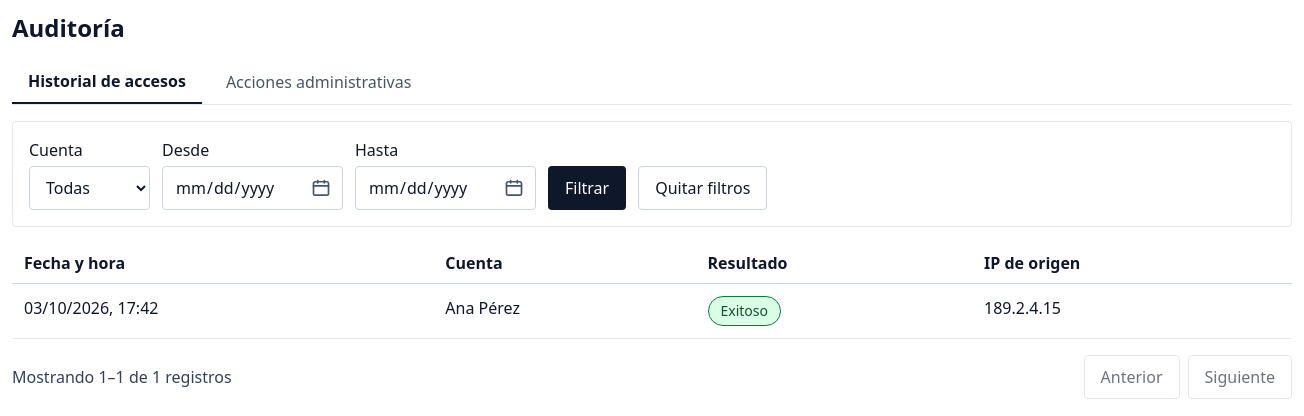
Test: AuditPage · filtros y paginación › cada pestaña conserva sus filtros al alternar
The image size is (1304, 416).
Expected: the table is shown, [12,243,1292,339]
Select "Ana Pérez" in the dropdown labelled "Cuenta" at (90, 188), box [29,166,150,210]
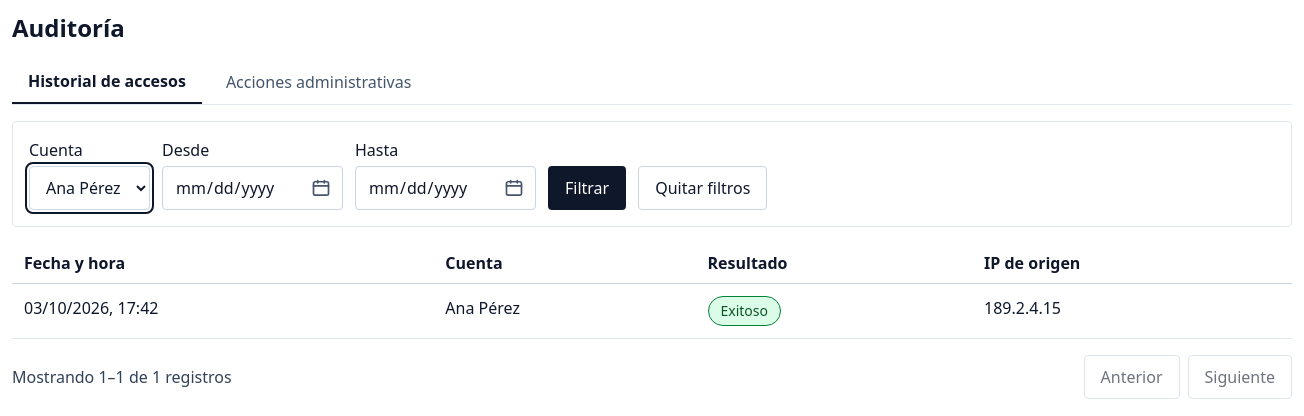
Click the button "Filtrar" at (587, 188), box [548,166,626,210]
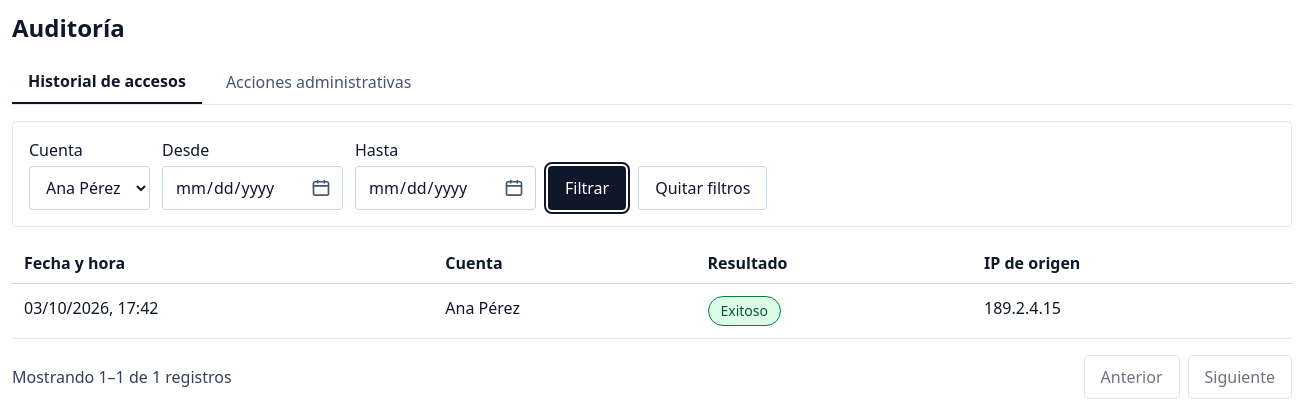
Click the button "Acciones administrativas" at (319, 82), box [210,60,427,104]
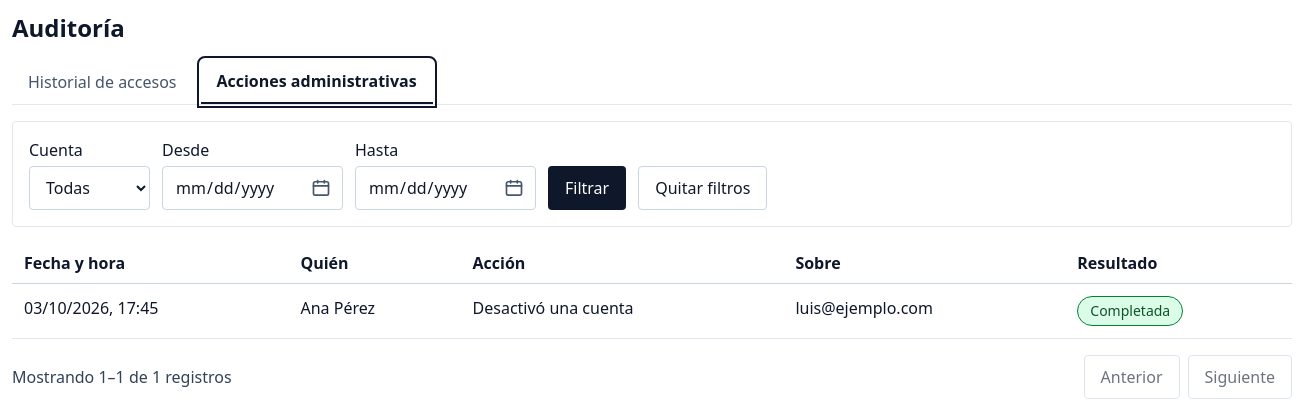
Expected: the text "Desactivó una cuenta" is shown, [460,284,783,338]
Click the button "Historial de accesos" at (102, 82), box [12,60,192,104]
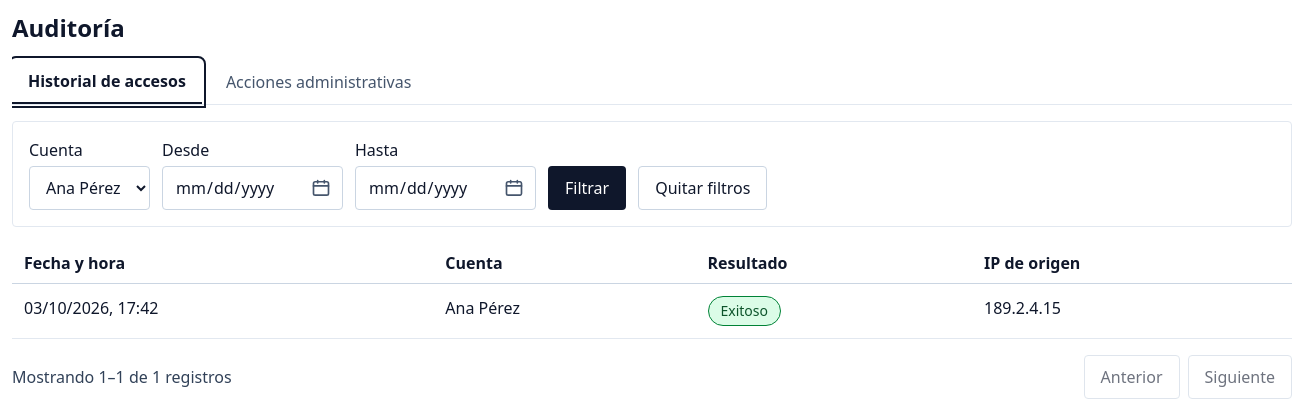
Expected: the dropdown labelled "Cuenta" shows "Ana Pérez", [29,166,150,210]
